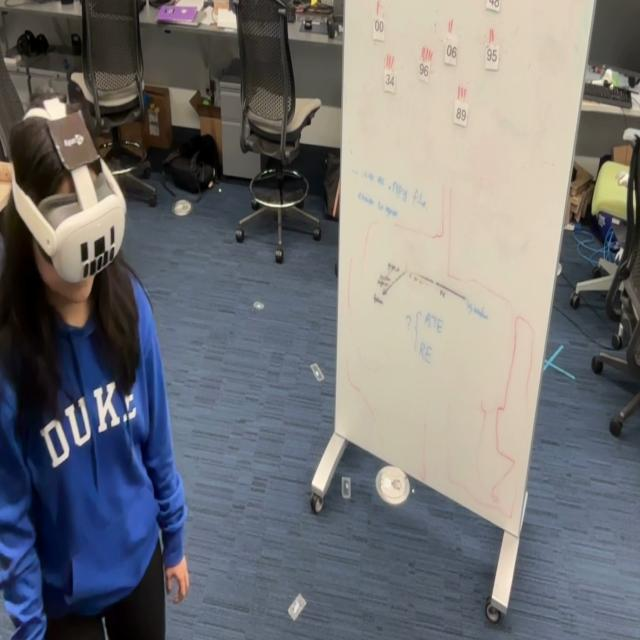Headset: (8, 99, 127, 284)
UnityLogo: (46, 105, 100, 173)
